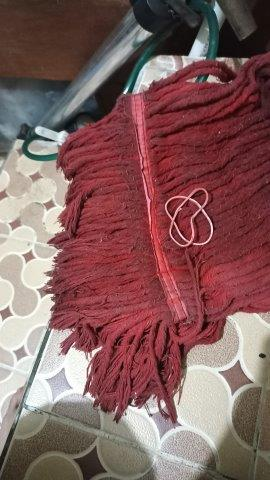karet: (164, 187, 213, 247)
